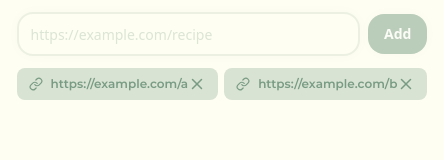
Test case: SourceLinksInput › enforces the max of two source URLs
The image size is (444, 160).
Expected: the field with placeholder "https://example.com/recipe" is disabled, [16,12,360,56]
Expected: the button "Add" is disabled, [368,14,428,54]
Click the button named "Remove https://example.com/a".
click(197, 84)  # box [188,75,206,93]
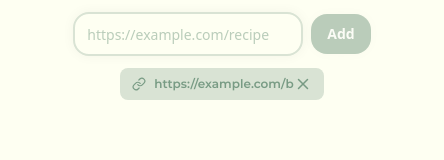
Now the field with placeholder "https://example.com/recipe" is enabled, box [73,12,303,56]
